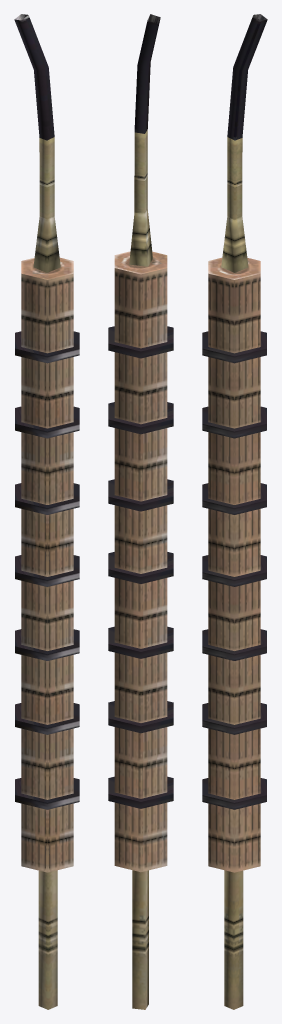
Rendered from eqp_music_fanfar_l0.fbx.
The picture shows the model from 3 angles, left to right: view 1: azimuth 90°, elevation 25°; view 2: azimuth 210°, elevation 25°; view 3: azimuth 270°, elevation 25°; orthographic projection.
Parts seen in each view (by area): view 1: mesh_node; view 2: mesh_node; view 3: mesh_node.
Part boxes in pixels (box(x1,y1,x2,y2)): mesh_node: box(14, 14, 79, 1009); mesh_node: box(108, 14, 173, 1009); mesh_node: box(202, 14, 267, 1009).
Bounding box in the file's own units: 0.0387 × 0.5672 × 0.034.
Materials: 1 (1 with a texture image).
